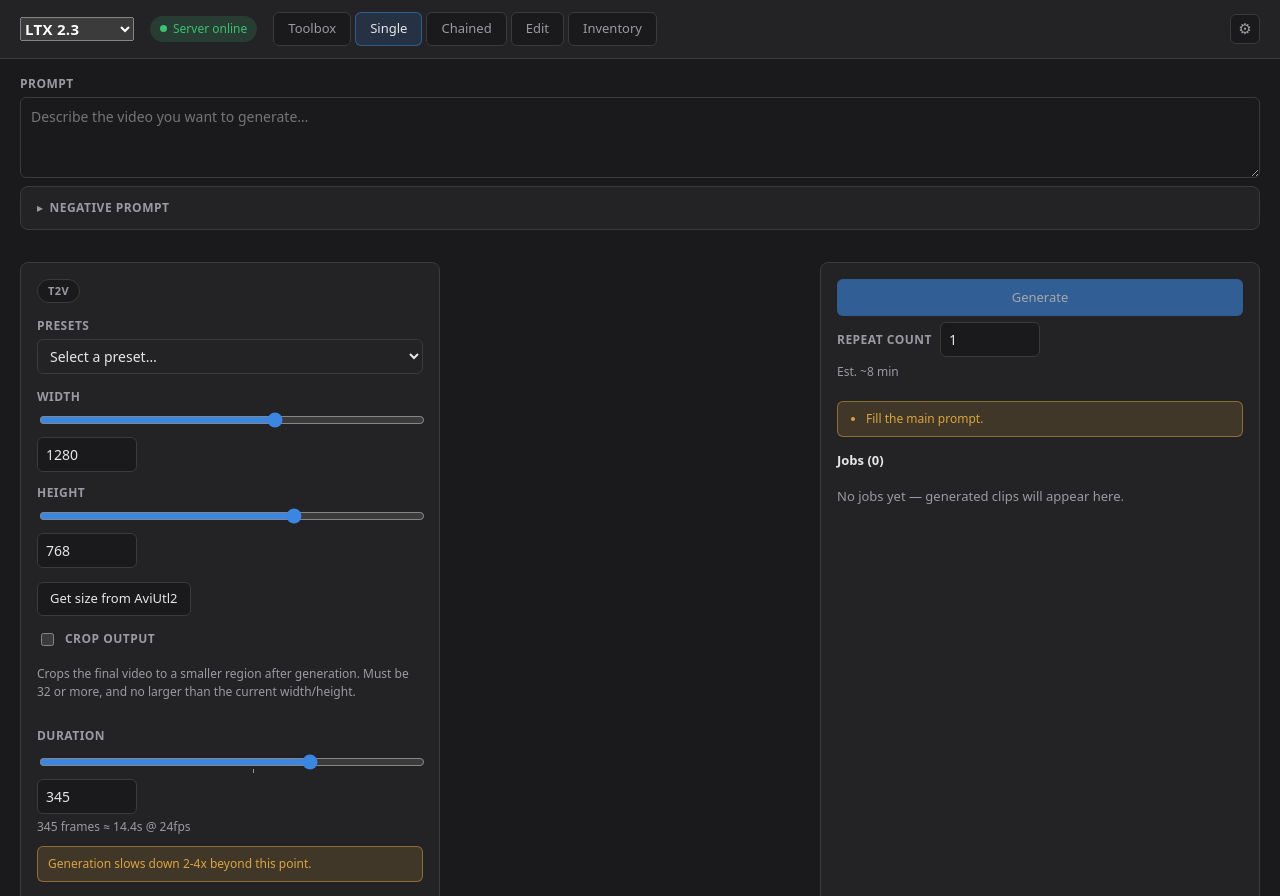
App / §3-54 物体追尾 right-click routing › starts nothing when the Toolbox tab is opened by hand
Expected: the button "Generate" is shown, x1=837 y1=278 x2=1243 y2=316
Expected: the text "Server online" is shown, x1=150 y1=16 x2=257 y2=42
Click the tab "Toolbox".
click(312, 29)  # box x1=273 y1=12 x2=351 y2=46
(page scrolled)
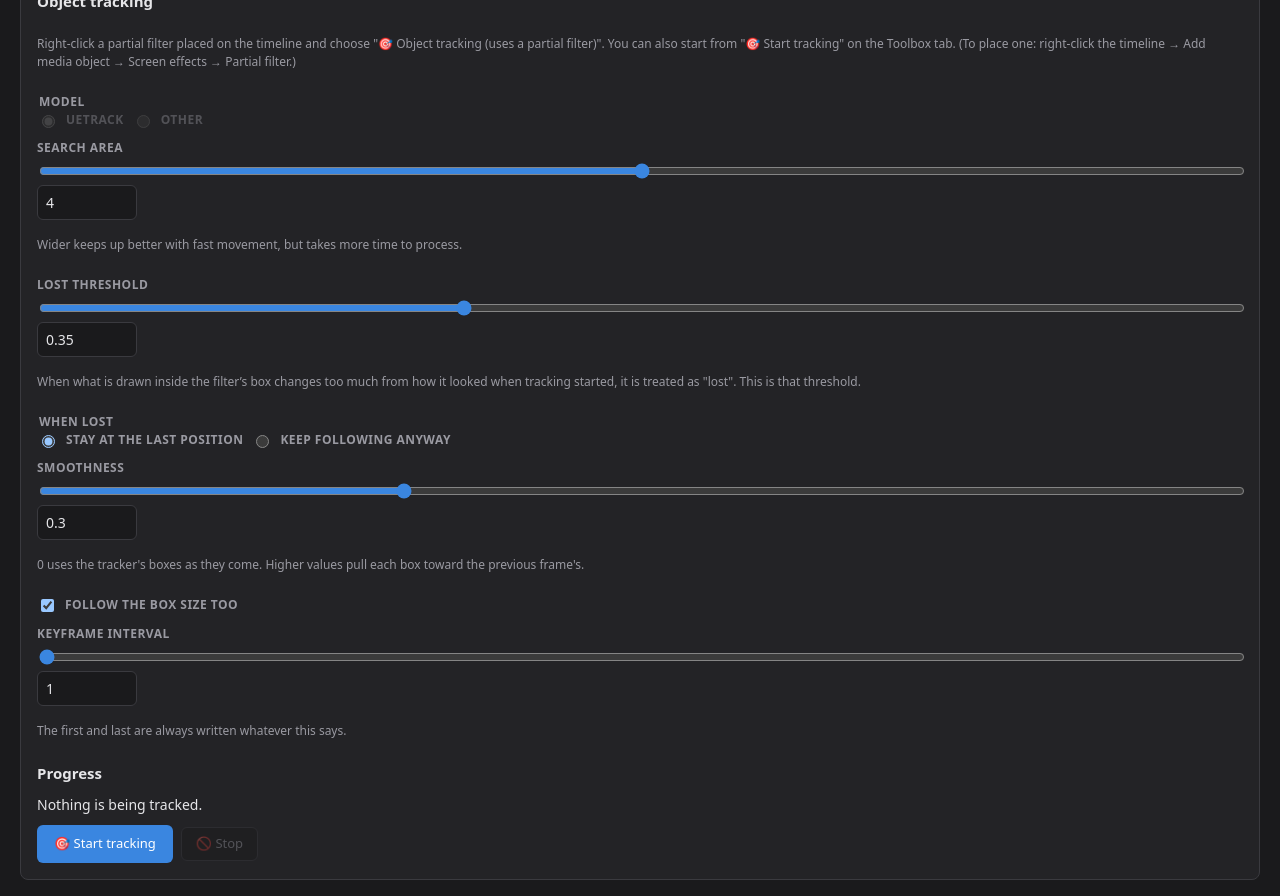
Expected: the text "Nothing is being tracked." is shown, x1=37 y1=795 x2=202 y2=814
